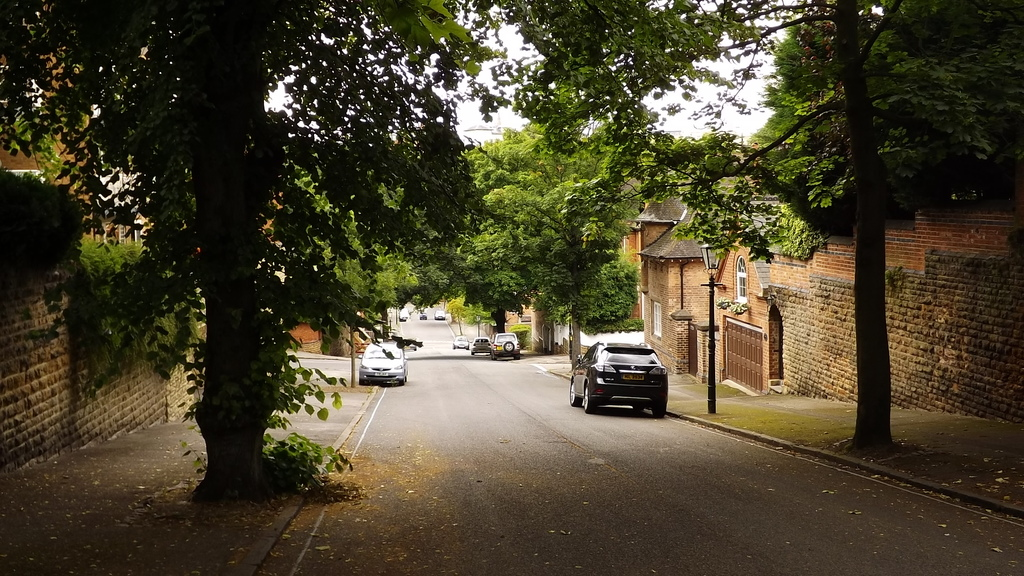Car: (571, 345, 665, 411), (346, 339, 410, 390), (492, 336, 516, 357), (452, 336, 469, 349), (476, 337, 488, 353), (398, 307, 410, 319), (402, 340, 416, 349), (435, 310, 446, 320), (455, 340, 465, 348), (419, 311, 427, 318)
